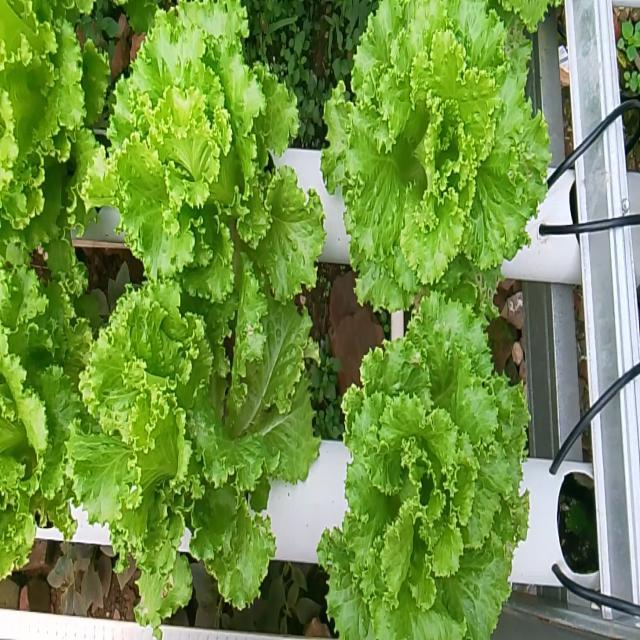Mature: (73, 228, 318, 577), (317, 260, 528, 606), (324, 16, 552, 326), (92, 16, 327, 312)
